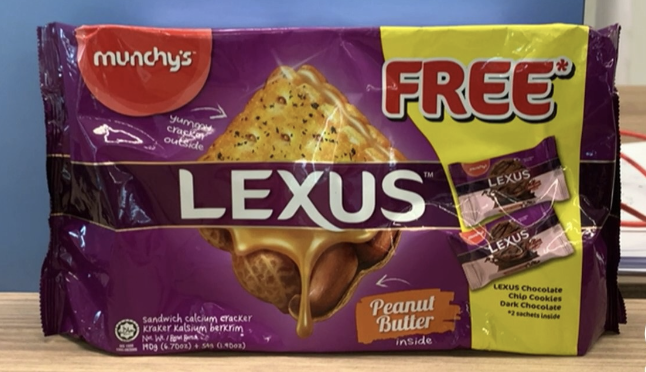crackers_150g: (80, 45, 578, 343)
